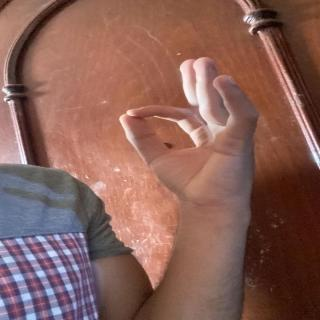Space: (114, 52, 268, 202)
